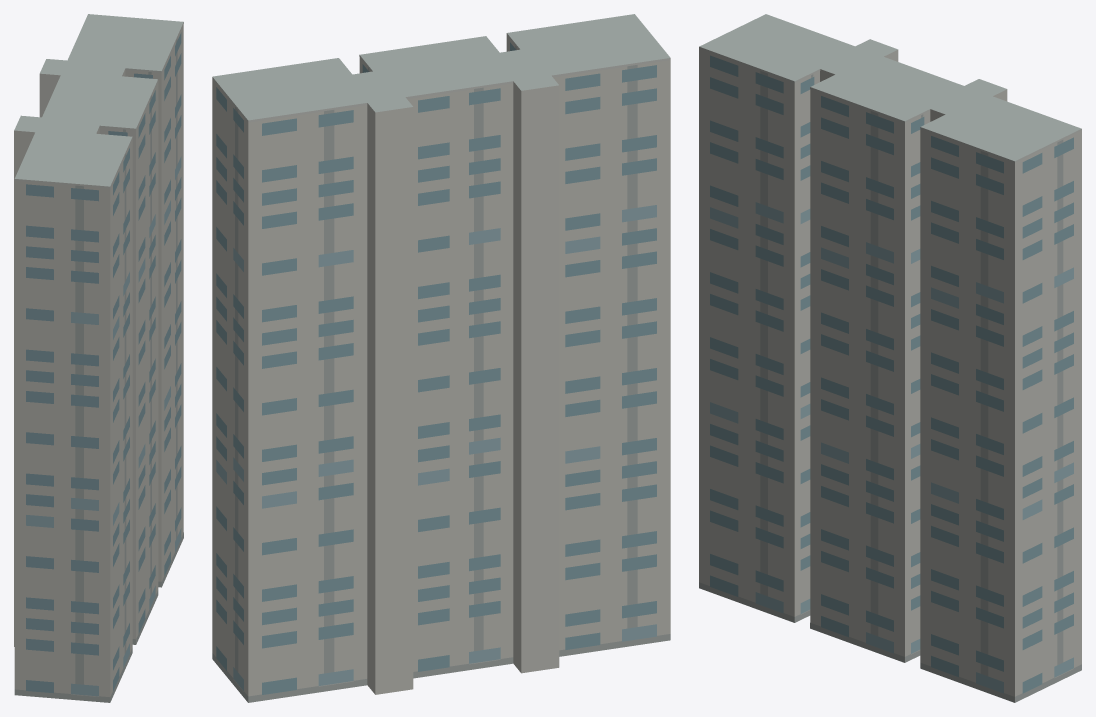
The model's file is residential-dd074794-579e-4fac-87e0-e00dbfe2d81c.glb.
3 views of the same model, side by side, from view 1: azimuth 30°, elevation 25°; view 2: azimuth 150°, elevation 25°; view 3: azimuth 270°, elevation 25° (orthographic). The views are drawn at different scales.
Parts seen in each view (by area): view 1: residential-dd074794-579e-4fac-87e0-e00dbfe2d81c.tmp; view 2: residential-dd074794-579e-4fac-87e0-e00dbfe2d81c.tmp; view 3: residential-dd074794-579e-4fac-87e0-e00dbfe2d81c.tmp.
Part boxes in pixels (left/top/right/bottom): residential-dd074794-579e-4fac-87e0-e00dbfe2d81c.tmp: left=14, top=14, right=183, bottom=702; residential-dd074794-579e-4fac-87e0-e00dbfe2d81c.tmp: left=212, top=14, right=670, bottom=702; residential-dd074794-579e-4fac-87e0-e00dbfe2d81c.tmp: left=699, top=14, right=1081, bottom=702.
Bounding box in the file's own units: 41.42 × 71 × 45.47.
